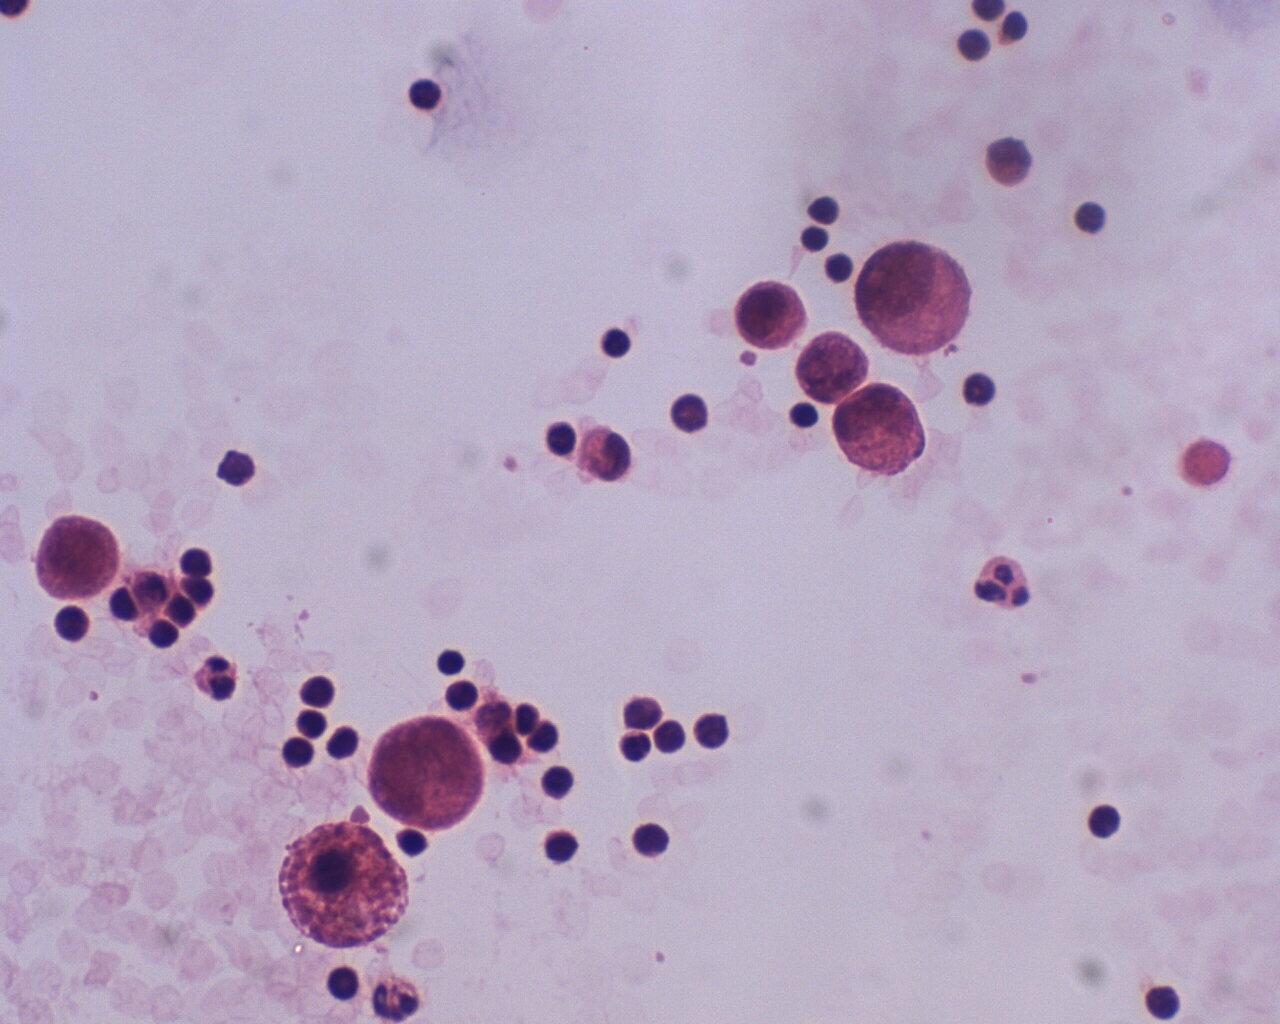ab: (854, 236, 975, 360), (365, 714, 483, 827), (29, 511, 126, 606), (831, 383, 924, 474), (788, 330, 872, 409), (737, 275, 805, 351)
histo: (276, 817, 413, 954)
lymph: (401, 66, 451, 118), (1068, 191, 1115, 247), (1080, 793, 1128, 842), (317, 962, 368, 1008), (1141, 975, 1185, 1024), (538, 758, 582, 805), (630, 818, 678, 861), (951, 22, 992, 70), (691, 709, 730, 757), (596, 321, 635, 367), (276, 732, 316, 773), (807, 189, 847, 228), (297, 671, 338, 709), (433, 645, 473, 681)
neutro: (972, 551, 1037, 616)
